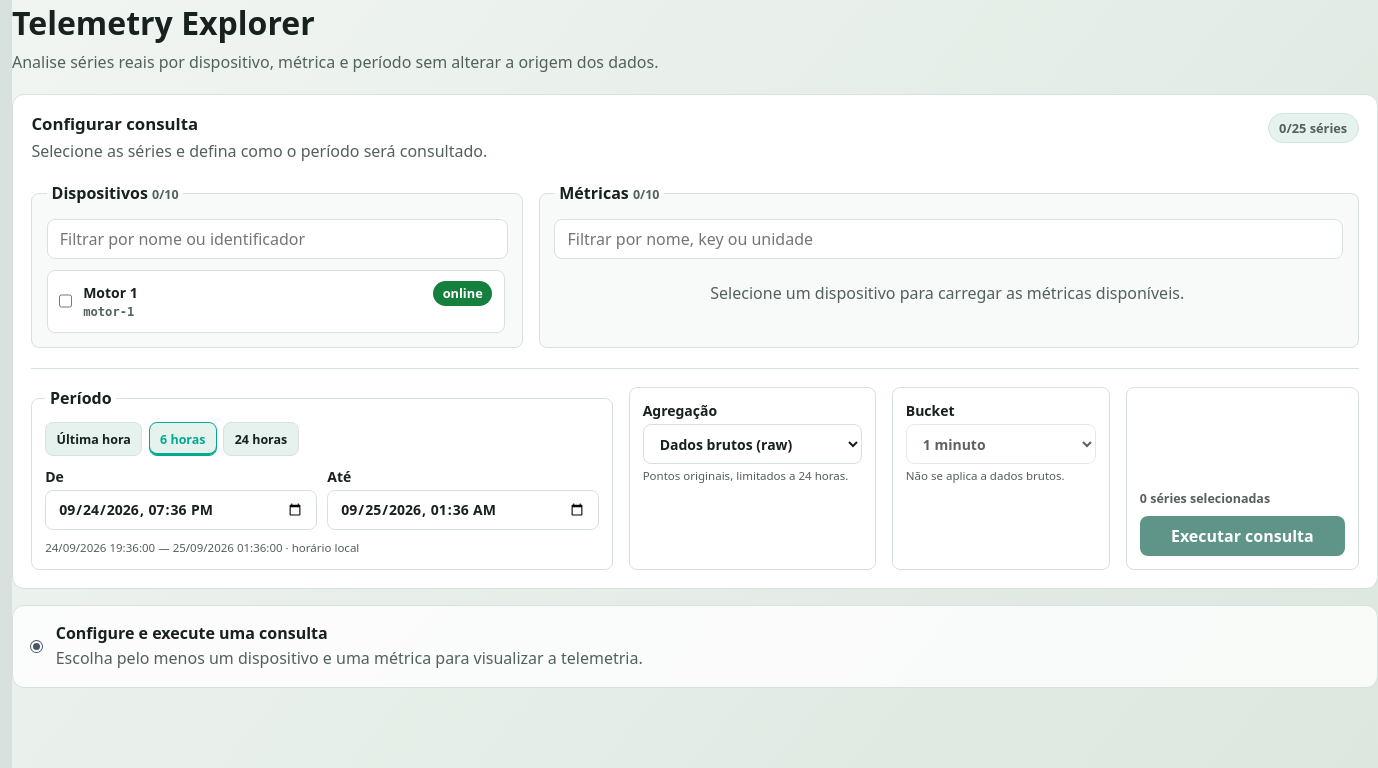
Test: TelemetryExplorerPage › renderiza aviso quando o resultado é truncado
The image size is (1378, 768).
Click the checkbox named "Selecionar dispositivo Motor 1": (66, 301) [59,281,72,321]
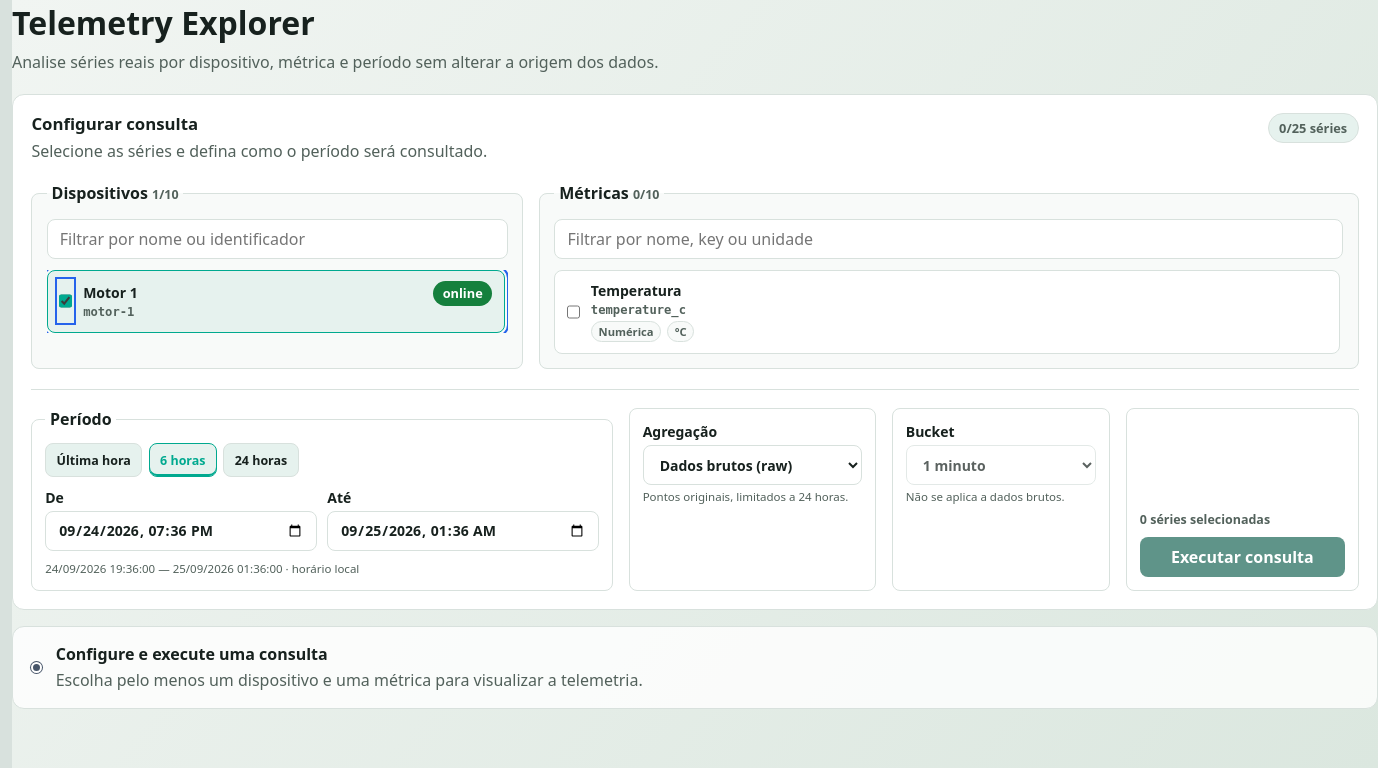
Click the checkbox named "Selecionar métrica Temperatura": (573, 312) [567,292,580,332]
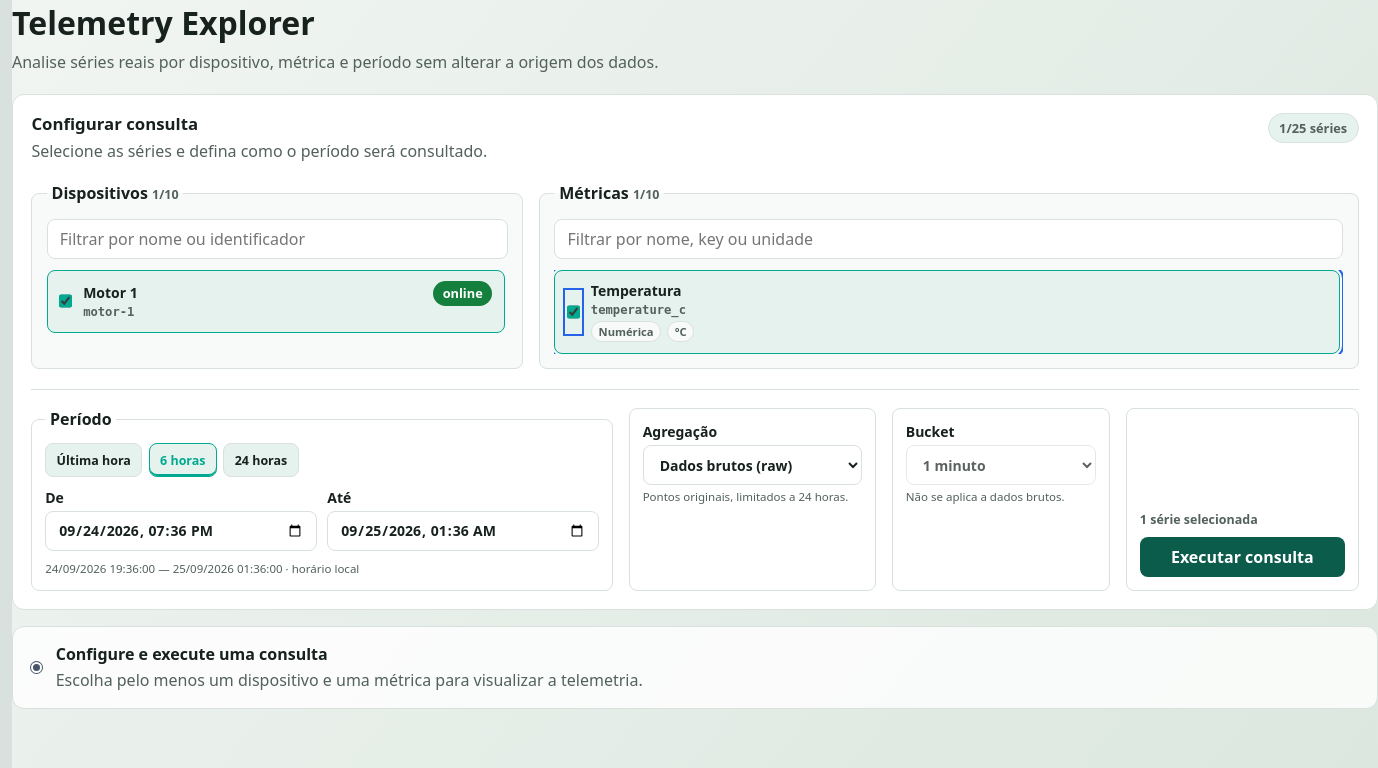
Click the button "Executar consulta": (1242, 557) [1140,537,1345,577]
(page scrolled)
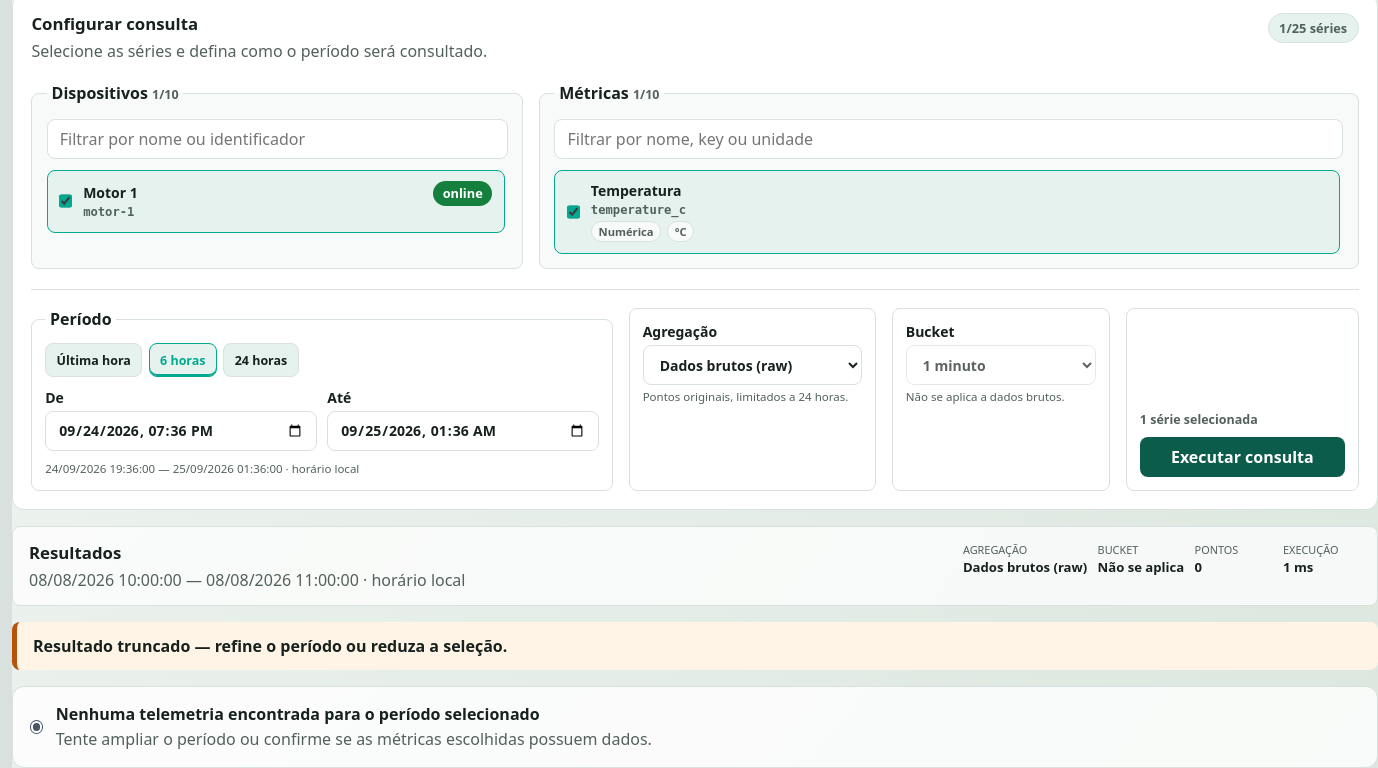
Expected: the text "Resultado truncado — refine o período ou reduza a seleção." is shown, [12,622,1377,670]
